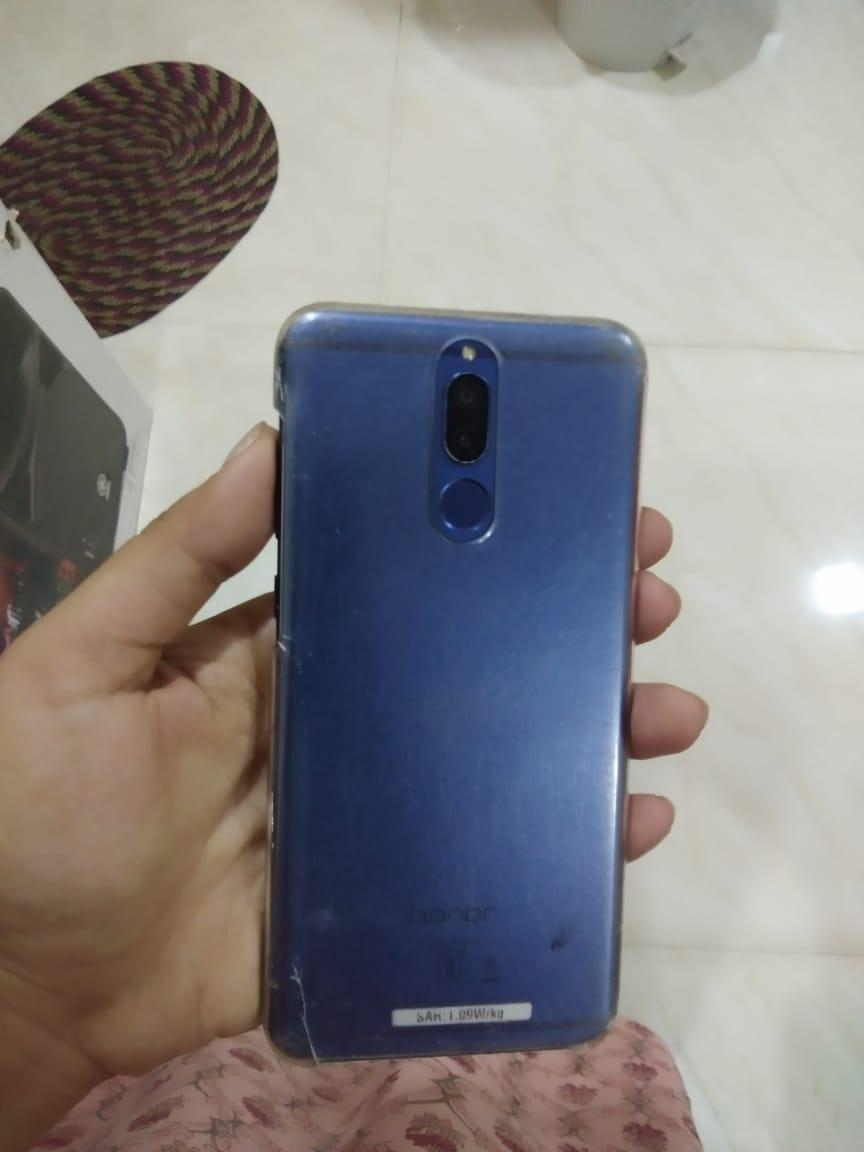Phone: (241, 269, 669, 1072)
